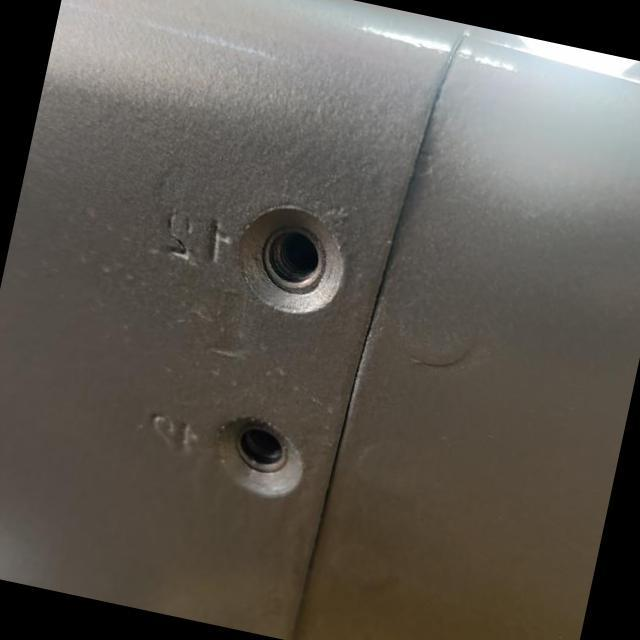Fastener Damage: (171, 130, 415, 377), (138, 357, 366, 572)
